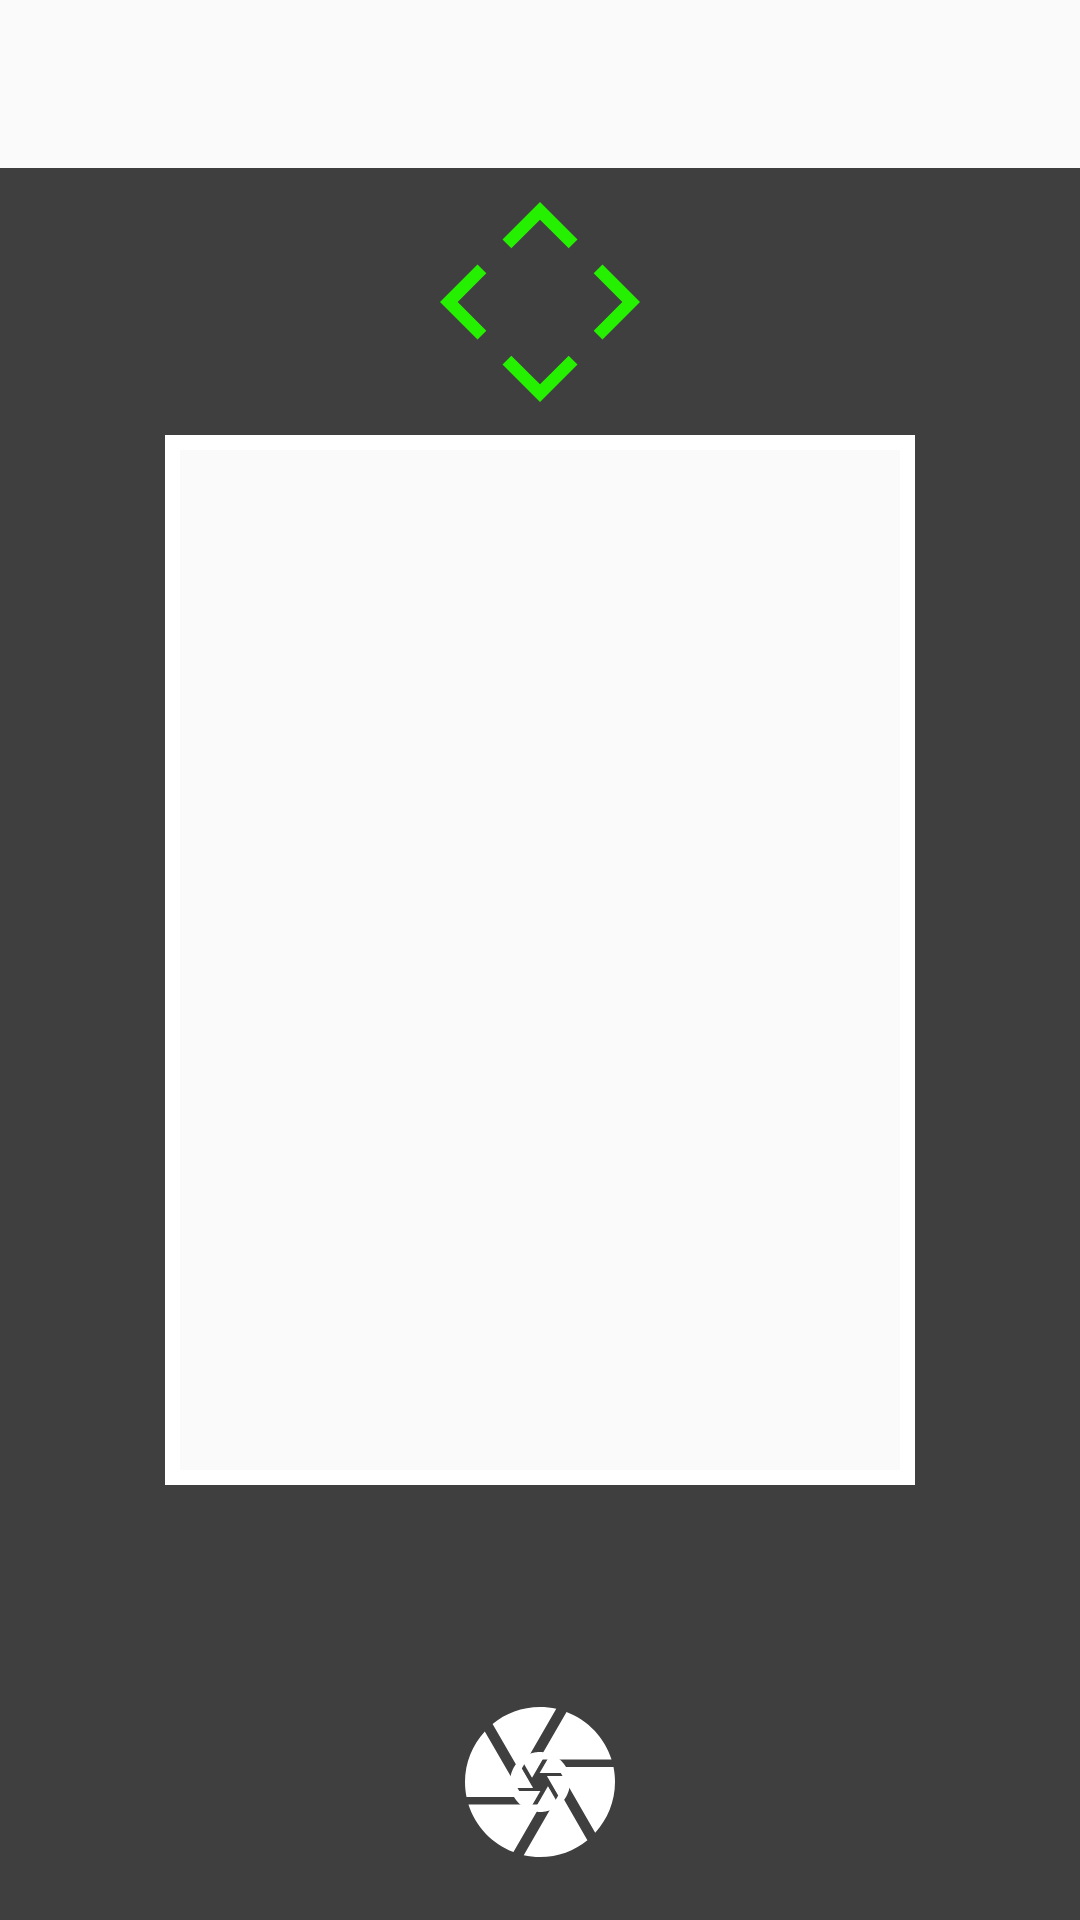

Where icons sit on this 1080 x 1920 app screen, as (x1, y1, x2, y2):
arrow left: (440, 264, 486, 340)
arrow right: (594, 264, 640, 340)
camera: (465, 1707, 615, 1857)
